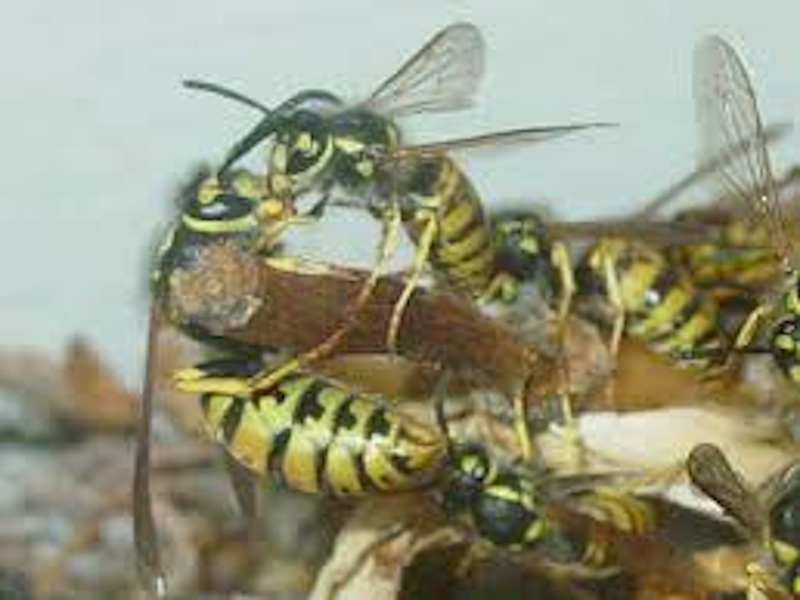chax: (113, 323, 491, 539), (233, 44, 515, 290), (453, 188, 735, 398), (139, 148, 301, 327)
